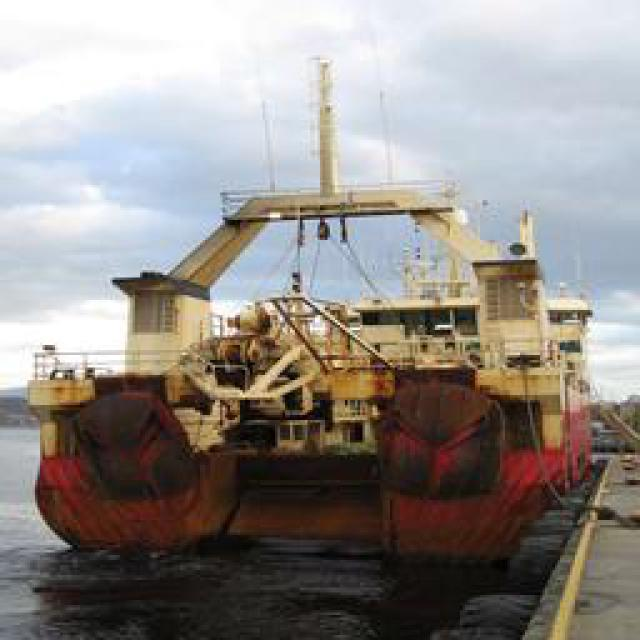Ship: (42, 177, 590, 565)
